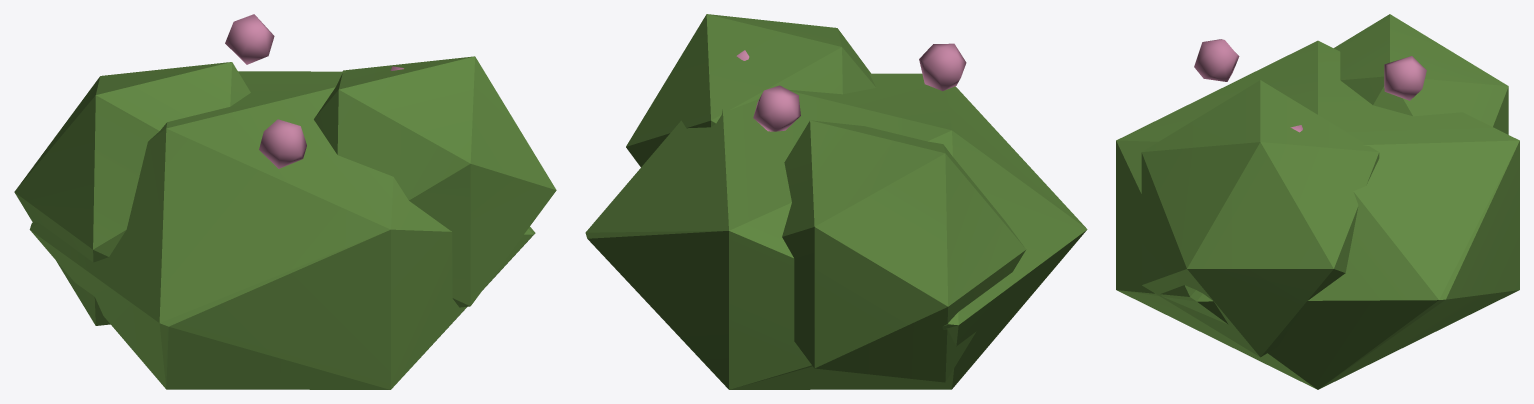
File: prop_shrub_lod2.glb
3 renders of one model, left to right at view 1: azimuth 30°, elevation 25°; view 2: azimuth 150°, elevation 25°; view 3: azimuth 270°, elevation 25°, orthographic. The views are drawn at different scales.
Visible parts, largest first — view 1: prop_shrub_lod2; view 2: prop_shrub_lod2; view 3: prop_shrub_lod2.
Part boxes in pixels (box(x1,y1,x2,y2)): prop_shrub_lod2: box(14, 14, 556, 389); prop_shrub_lod2: box(585, 14, 1087, 389); prop_shrub_lod2: box(1116, 14, 1519, 389).
Size of the model in its own units: 1.48 by 1.09 by 1.4.
